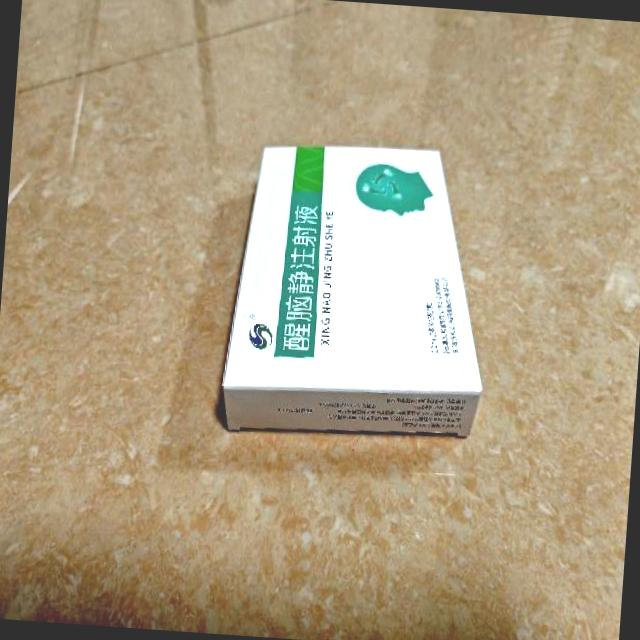box: (219, 135, 499, 446)
